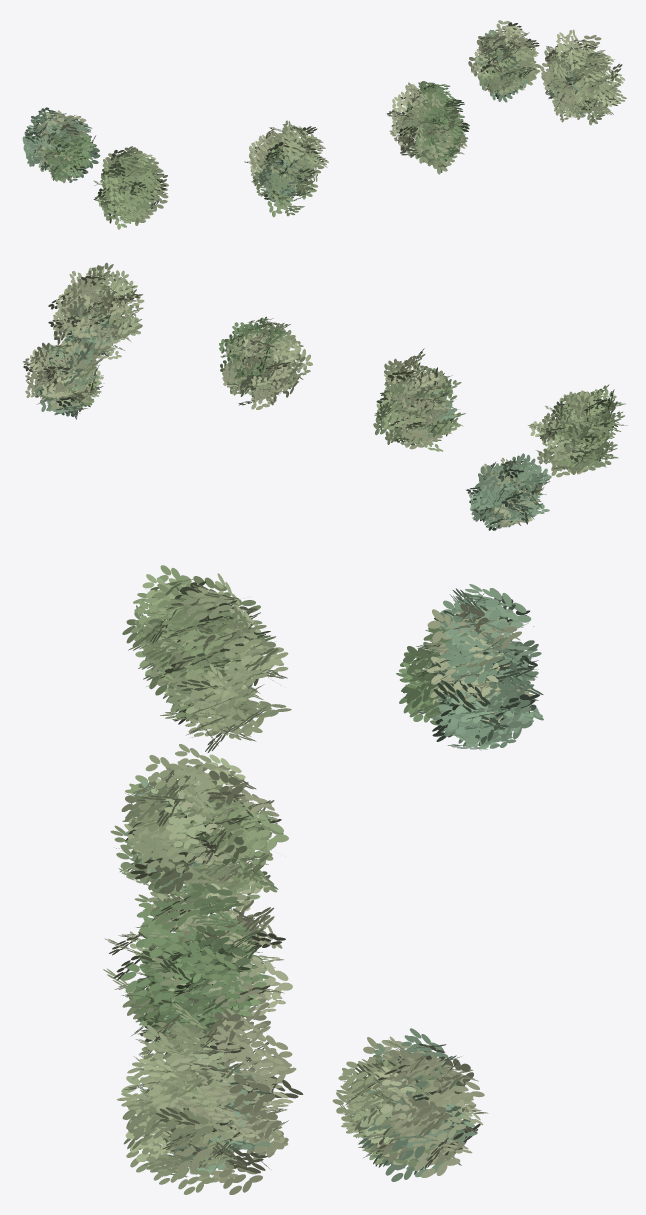
File: campus-tree--2_-1-middle.glb
The picture shows the model from 3 angles, top to bottom: view 1: azimuth 30°, elevation 25°; view 2: azimuth 150°, elevation 25°; view 3: azimuth 270°, elevation 25°; orthographic projection. The views are drawn at different scales.
Visible parts, largest first — view 1: Campus leaf canopy; view 2: Campus leaf canopy; view 3: Campus leaf canopy.
Part boxes in pixels (left/top/right/bottom): Campus leaf canopy: left=22, top=20, right=626, bottom=229; Campus leaf canopy: left=23, top=262, right=627, bottom=530; Campus leaf canopy: left=103, top=565, right=543, bottom=1194.
Bounding box in the file's own units: 39.7 × 7.61 × 14.35.
Materials: 1 (1 with a texture image).
